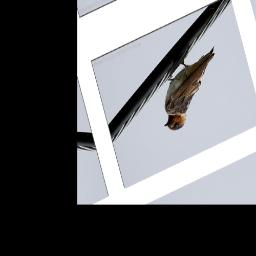Swallow: (149, 41, 232, 137)
